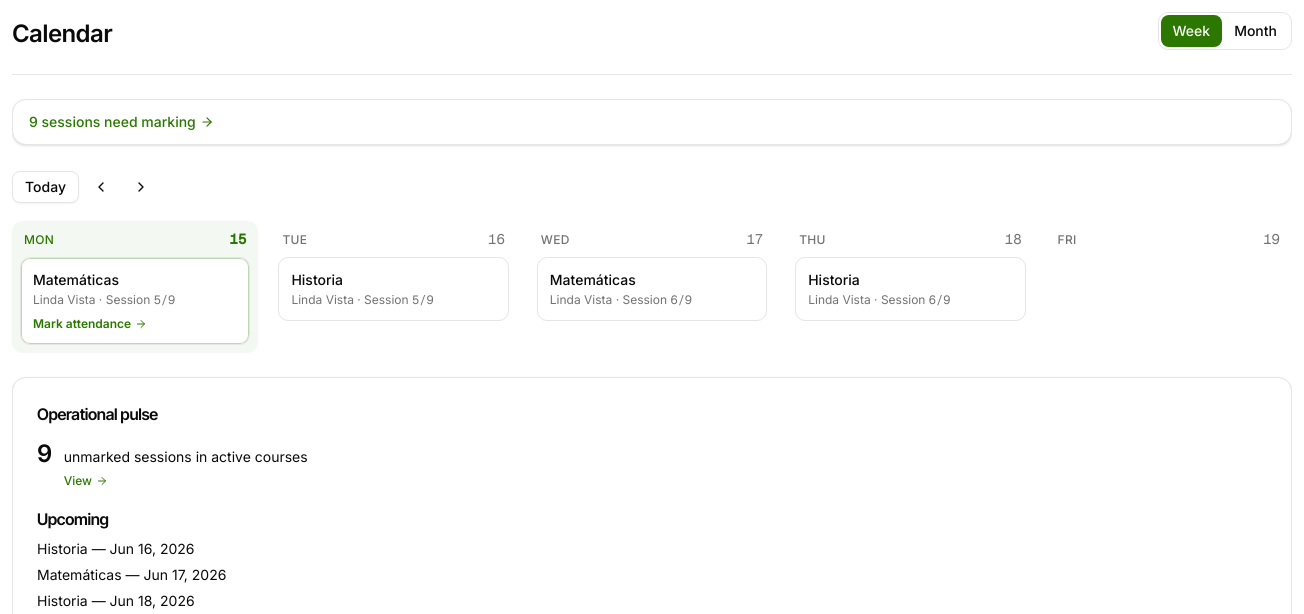
it: <CalendarPage /> › toggles to month mode, reusing MonthNavigator
This screenshot has width=1304, height=614.
What coordinates should you click on to do the following:
click the button "Month"
I would click on:
 (1256, 31)
Its box is [1222,15,1289,47].
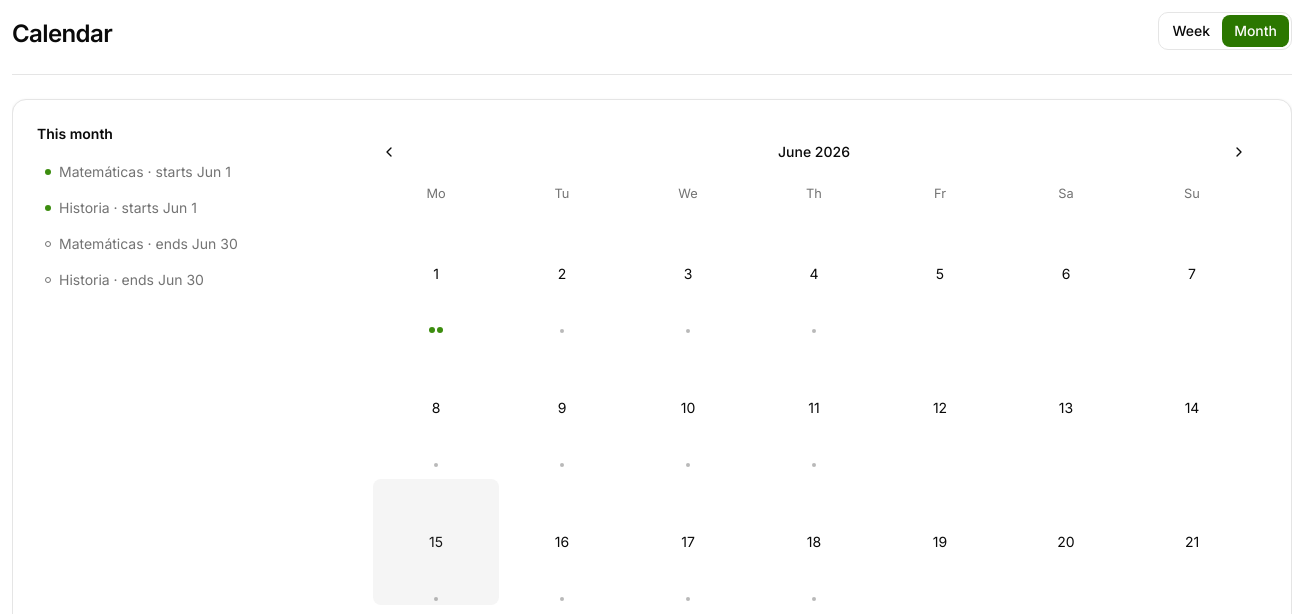
Now the heading "June 2026" is shown, box [778,142,850,162]
